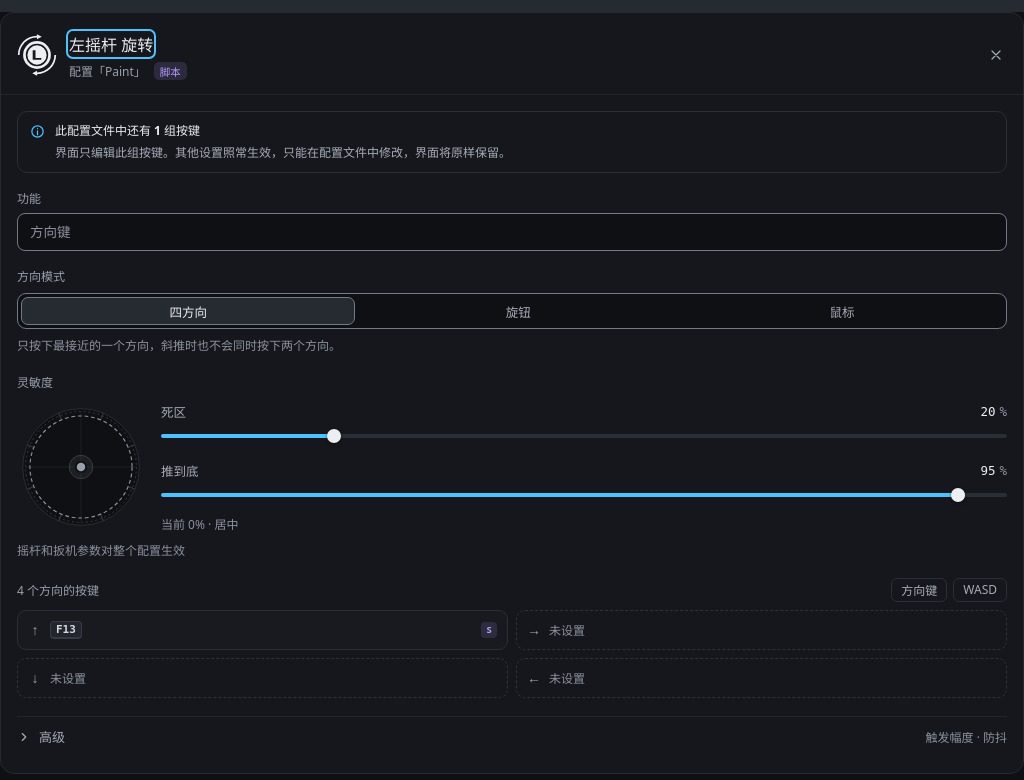
Test: marks only this device's base-key script owners on the stick
The width and height of the screenshot is (1024, 780).
Expected: the text with test id "analog-script-ownership" reads "S", [486,624,492,636]
Click the button "↑ F13 S".
click(66, 630)  # box [17,610,508,650]
(page scrolled)
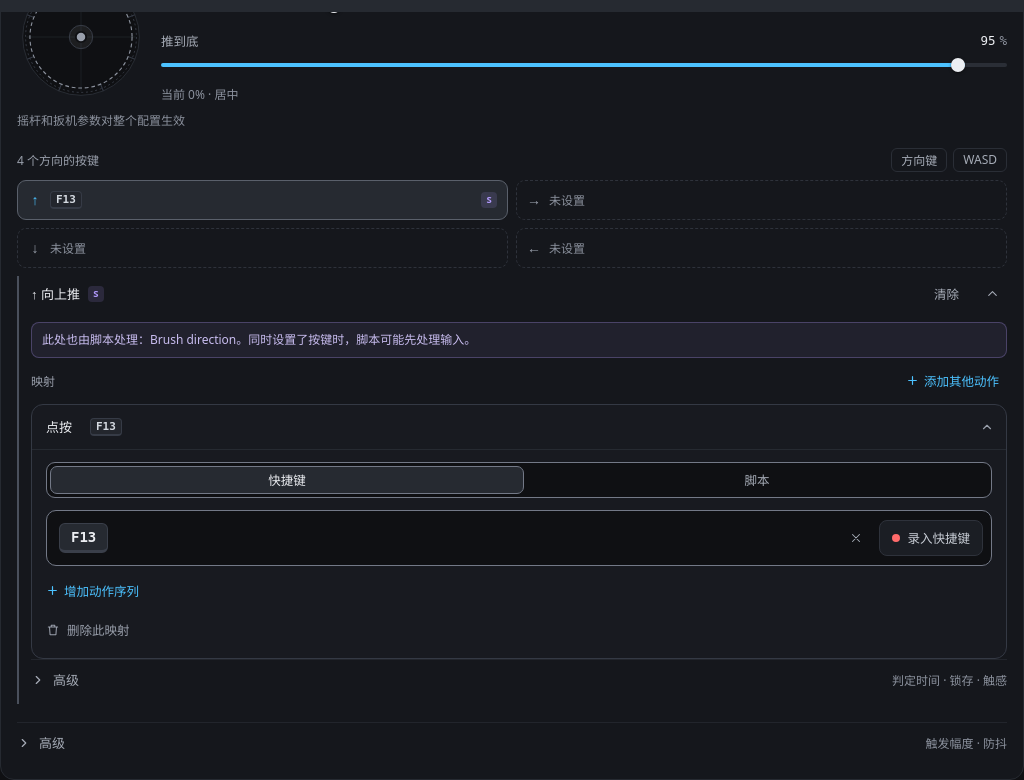
Now the element "↑ 向上推" shows "此处也由脚本处理：Brush direction", box [42,331,248,348]
Now the element "↑ 向上推" shows "同时设置了按键", box [248,331,476,348]
